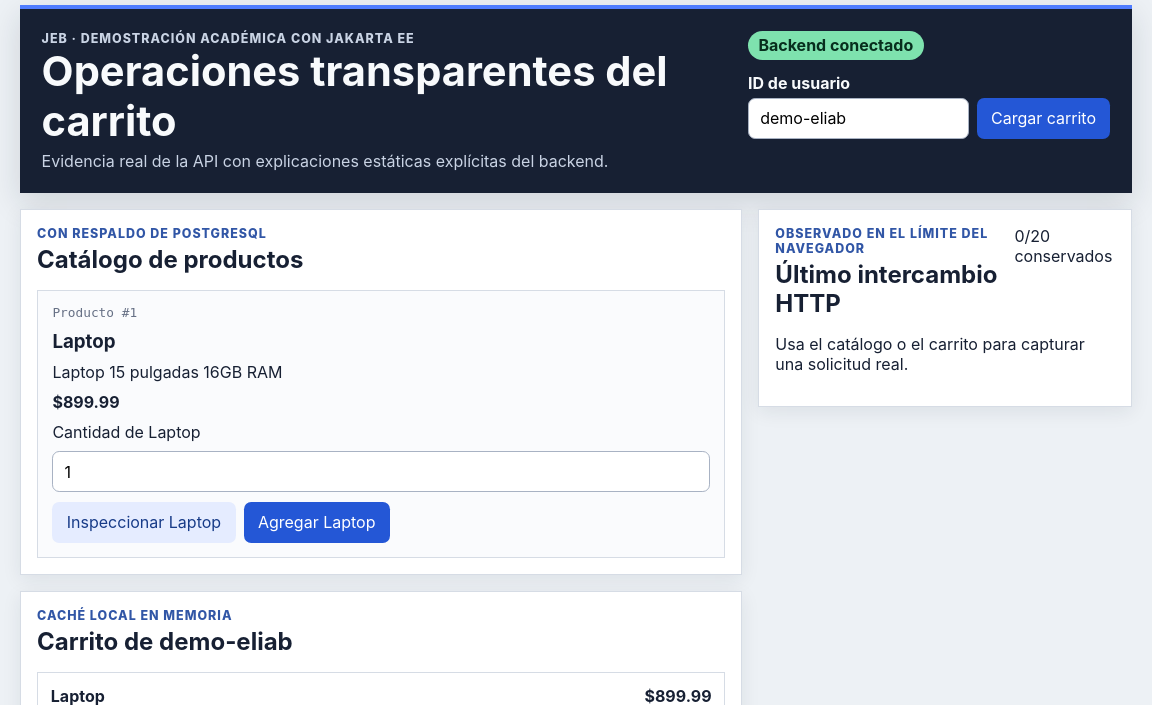
Test: CartDemo › keeps the last valid cart visible when changing user fails
Replace the text in the field labelled "ID de usuario" with "second-user" at (858, 118), box [748,98,969,139]
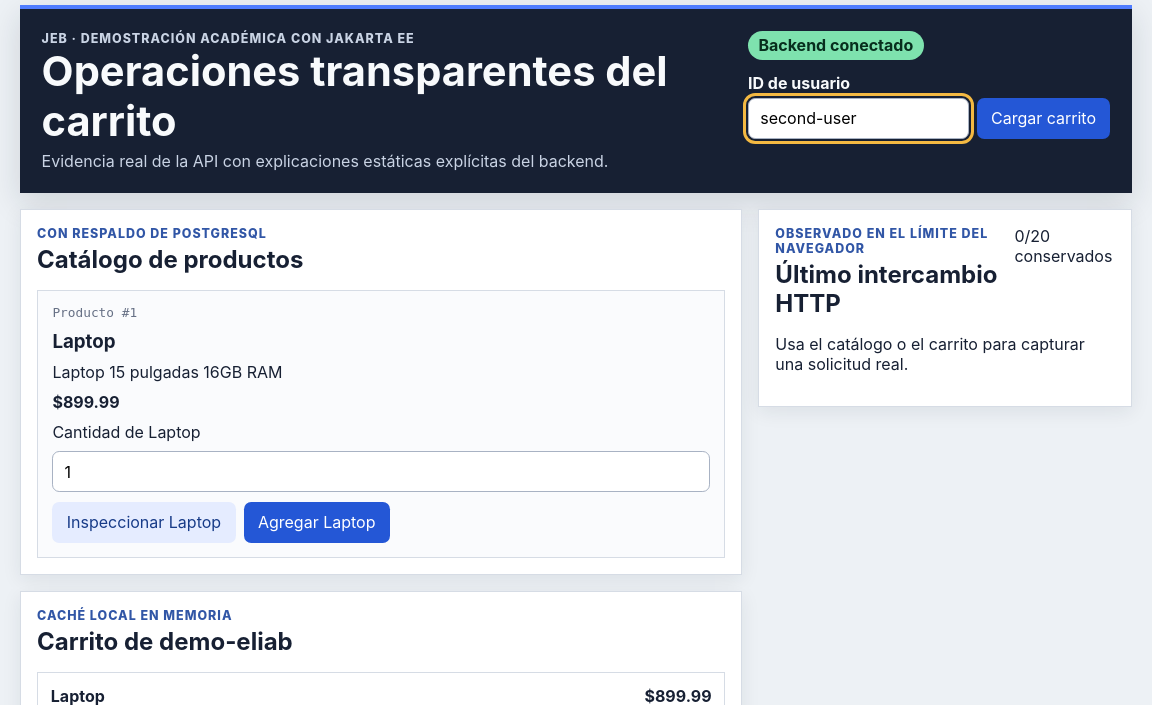
Click the button "Cargar carrito" at (1044, 118), box [977,98,1110,139]
(page scrolled)
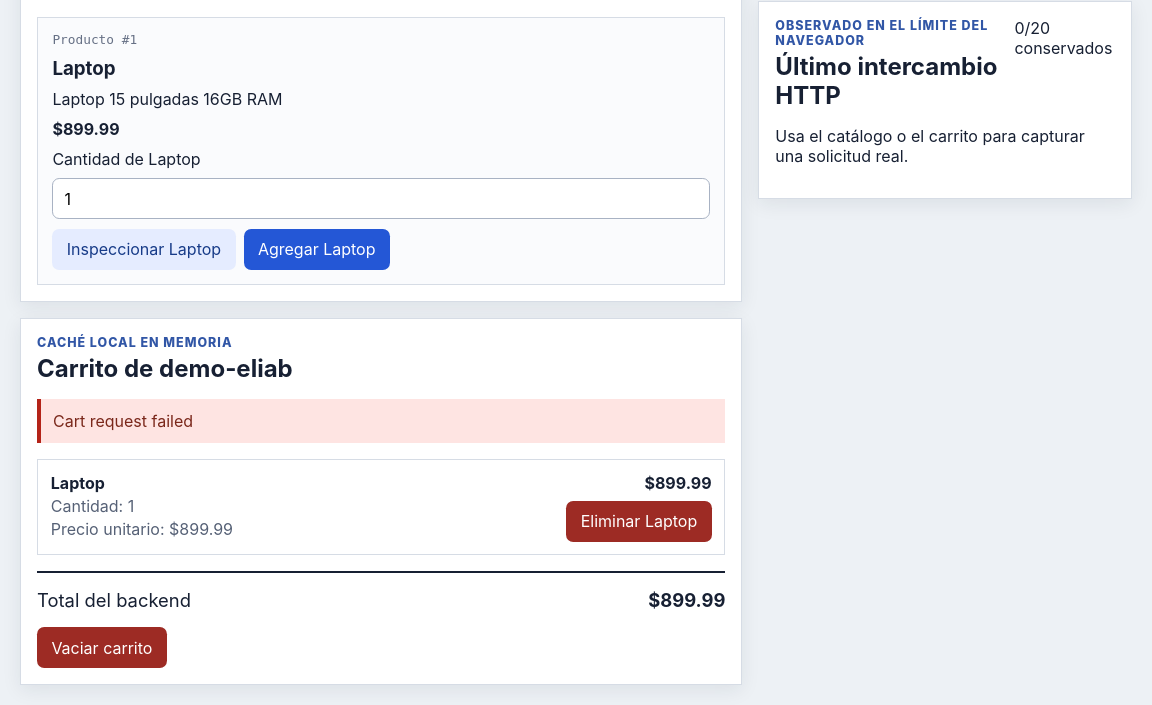
expect the text "Cantidad: 1" is shown: met, box [51,496,134,516]
expect the text "Cart request failed" is shown: met, box [37,399,725,443]
